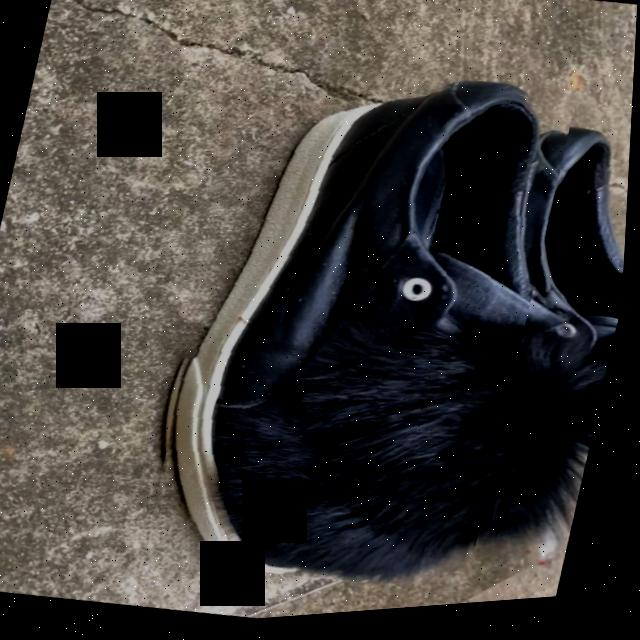shoe: (172, 96, 542, 579)
